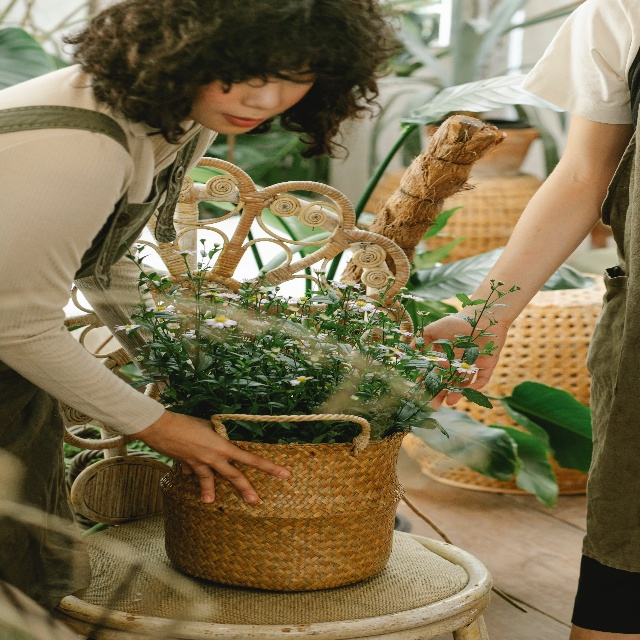Sin_guantes: (143, 413, 290, 504), (409, 309, 507, 410)
